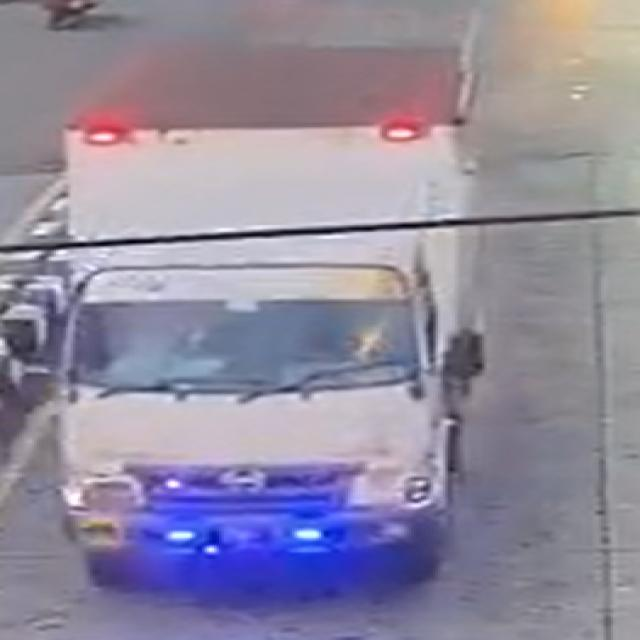truck: (19, 29, 522, 606)
